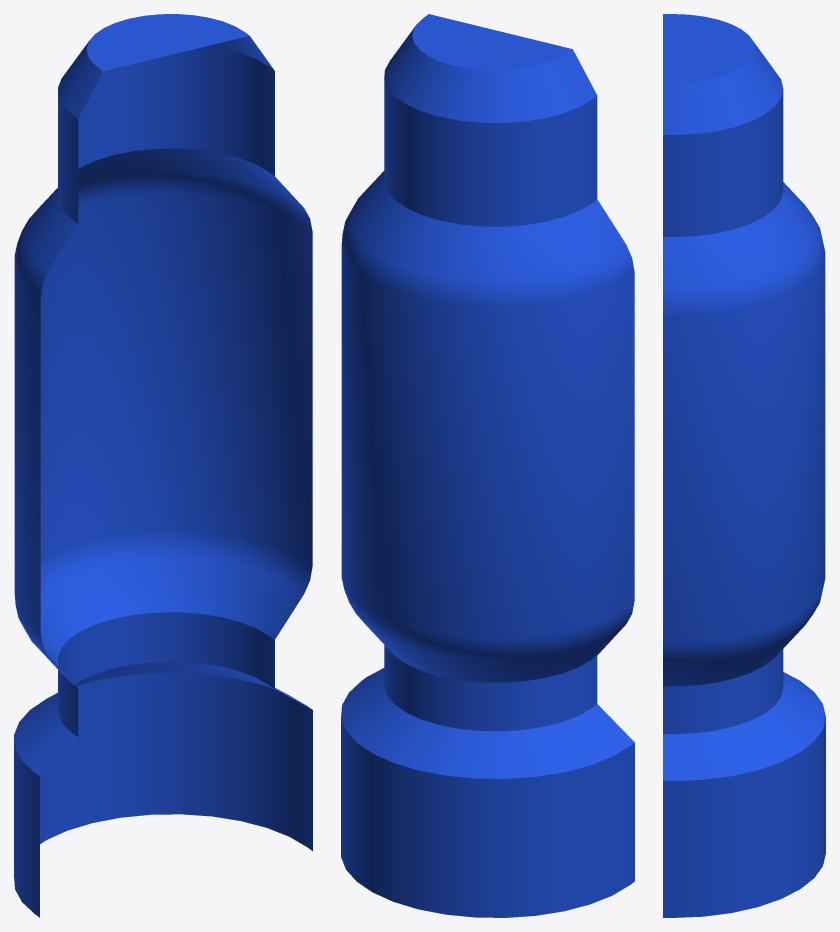
The model's file is Wall_B_4_1.fbx.
3 views of the same model, side by side, from view 1: azimuth 30°, elevation 25°; view 2: azimuth 150°, elevation 25°; view 3: azimuth 270°, elevation 25° (orthographic). The views are drawn at different scales.
Parts seen in each view (by area): view 1: Wall_4_1; view 2: Wall_4_1; view 3: Wall_4_1.
Boxes of the visible parts, x1,y1,x2,y2 form: Wall_4_1: (14,14,312,917); Wall_4_1: (341,14,634,917); Wall_4_1: (663,14,825,917).
Size of the model in its own units: 0.6871 by 2 by 0.3668.
